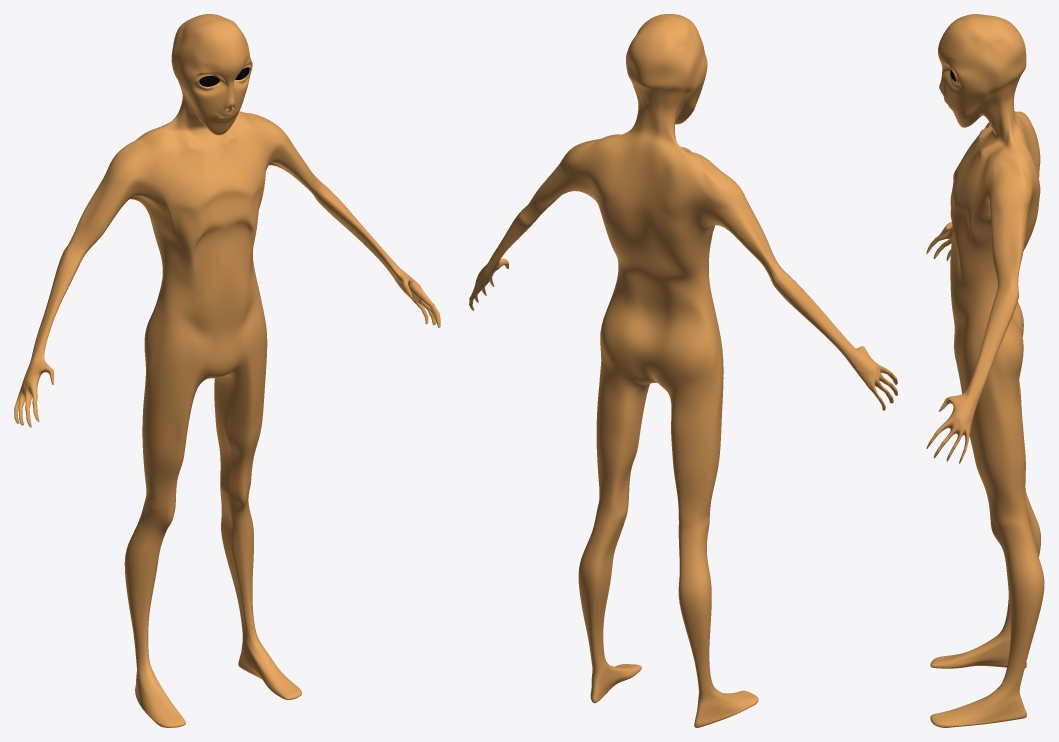
File: alien.fbx
3 renders of one model, left to right at view 1: azimuth 30°, elevation 25°; view 2: azimuth 150°, elevation 25°; view 3: azimuth 270°, elevation 25°, orthographic.
Visible parts, largest first — view 1: body; view 2: body; view 3: body.
Part boxes in pixels (x1=…): body: x1=14, y1=14, x2=440, y2=727; body: x1=469, y1=14, x2=897, y2=727; body: x1=926, y1=14, x2=1044, y2=727.
Size of the model in its own units: 108 by 168 by 26.59.
